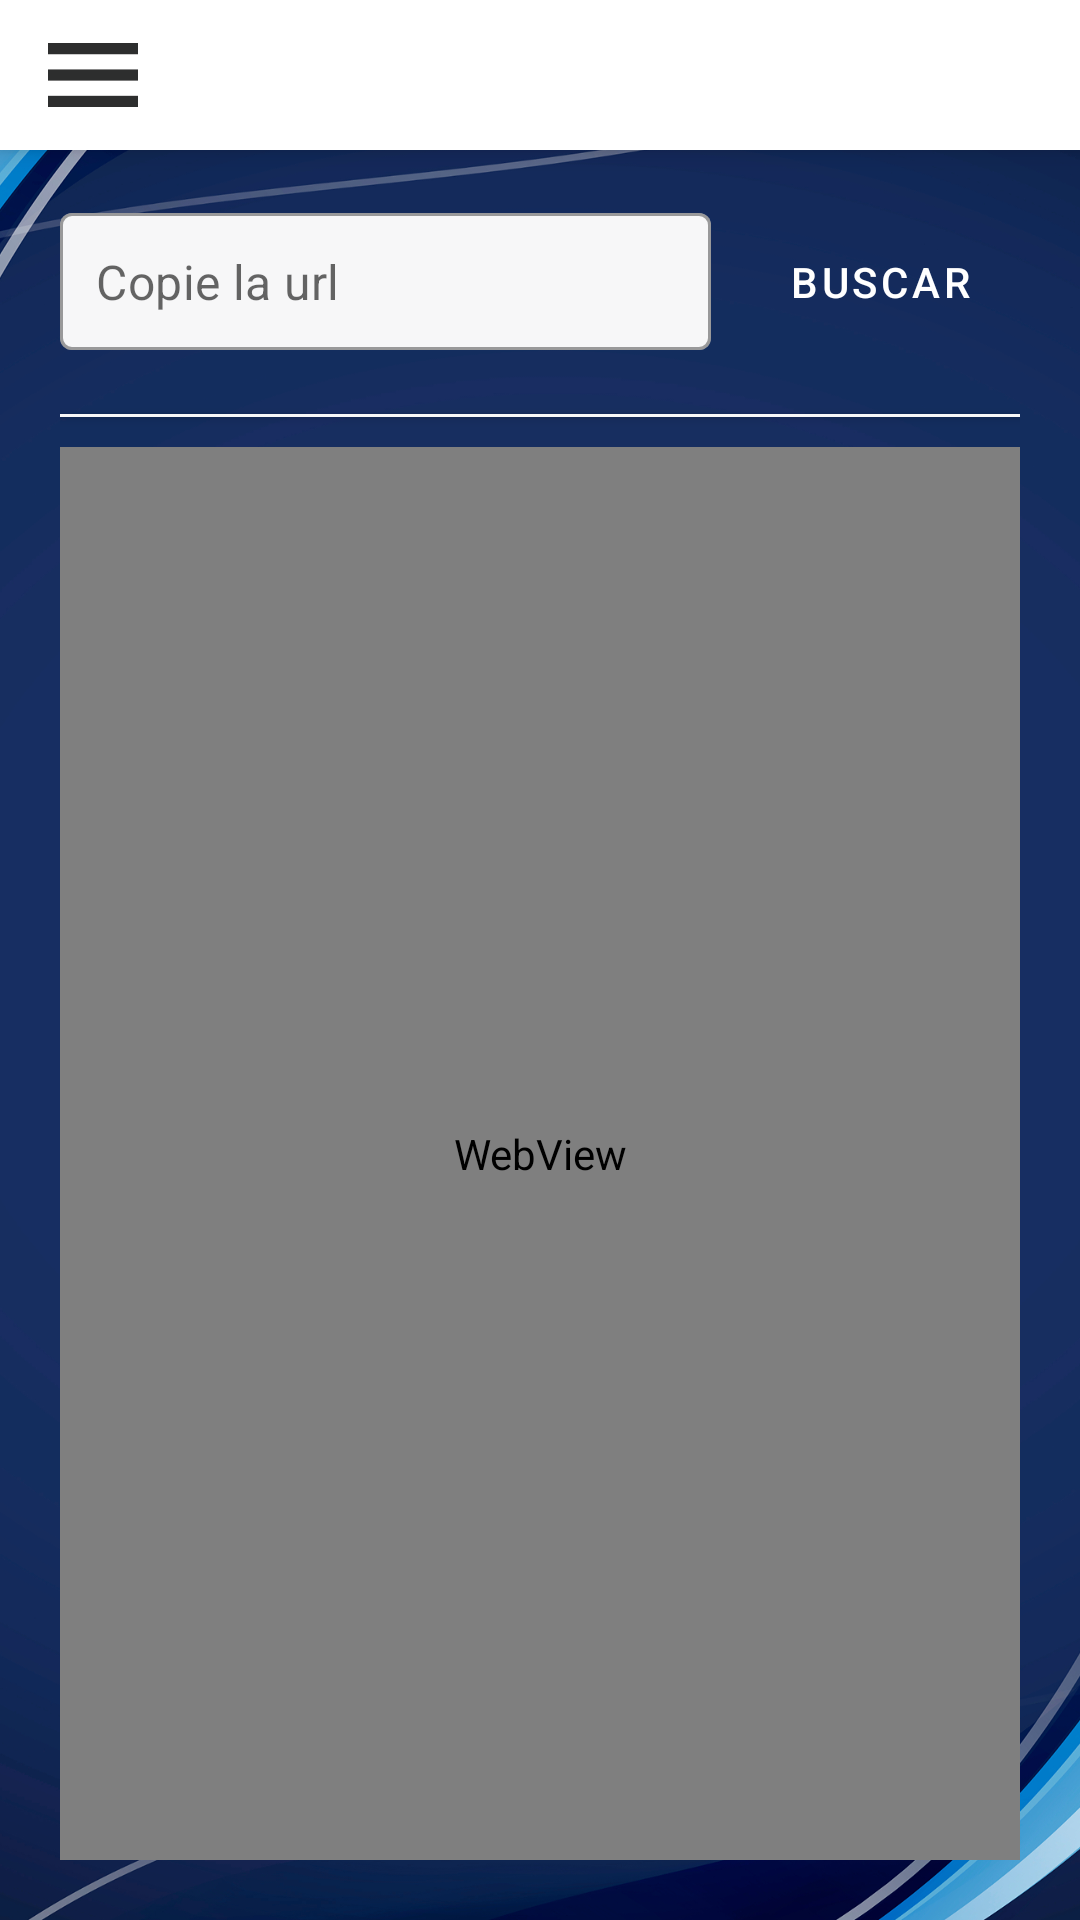

Named icons in this screenshot (1080w x 1920h) and their bounding boxes, region(x1, y1, x2, y2):
ice menu: region(48, 43, 138, 107)
